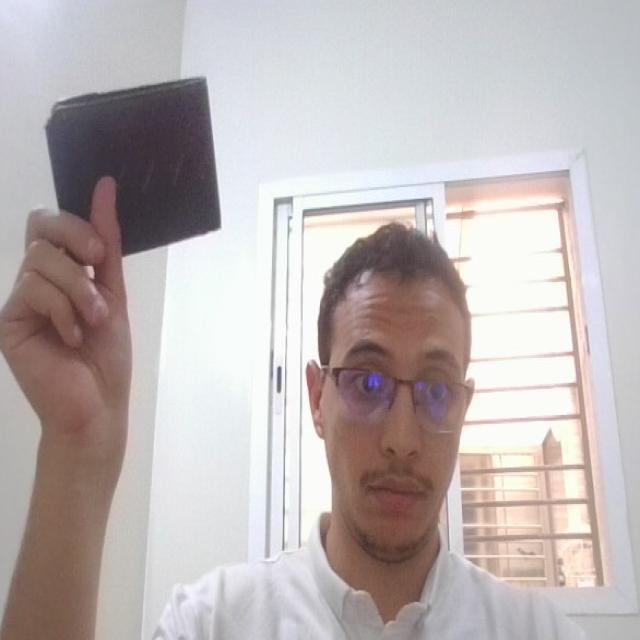wallet: (41, 69, 238, 273)
